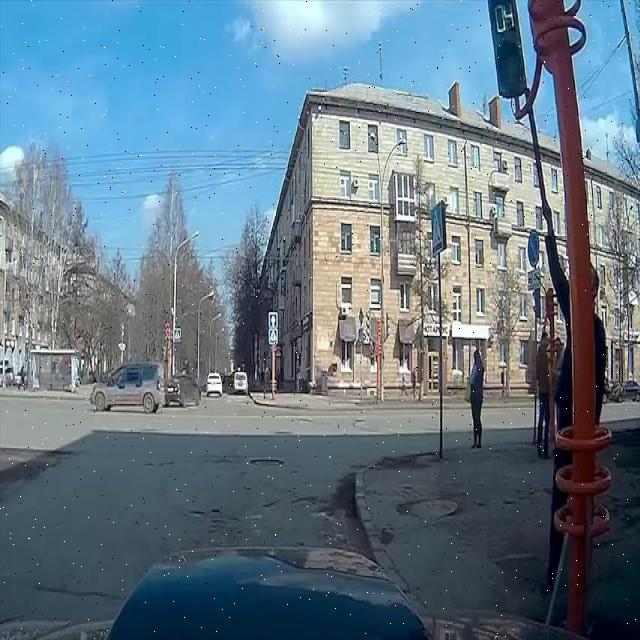moderate: (91, 354, 204, 419)
